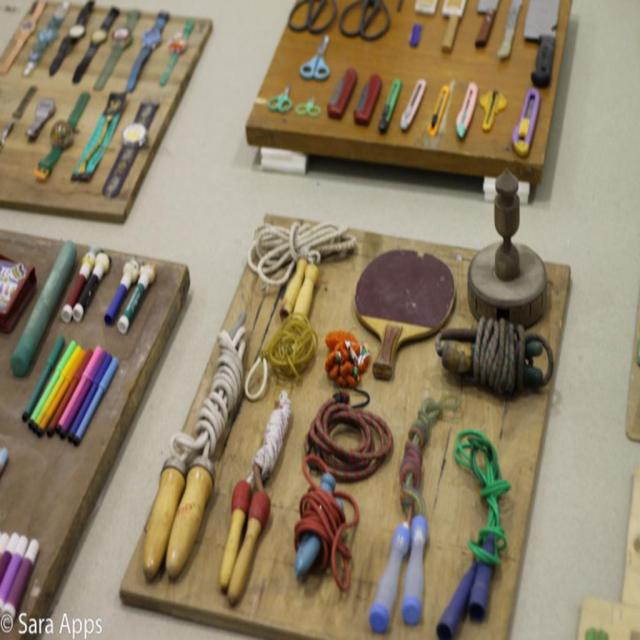scissor: (340, 0, 394, 41), (288, 0, 335, 31), (301, 35, 328, 81), (267, 84, 291, 111), (296, 94, 321, 114)
